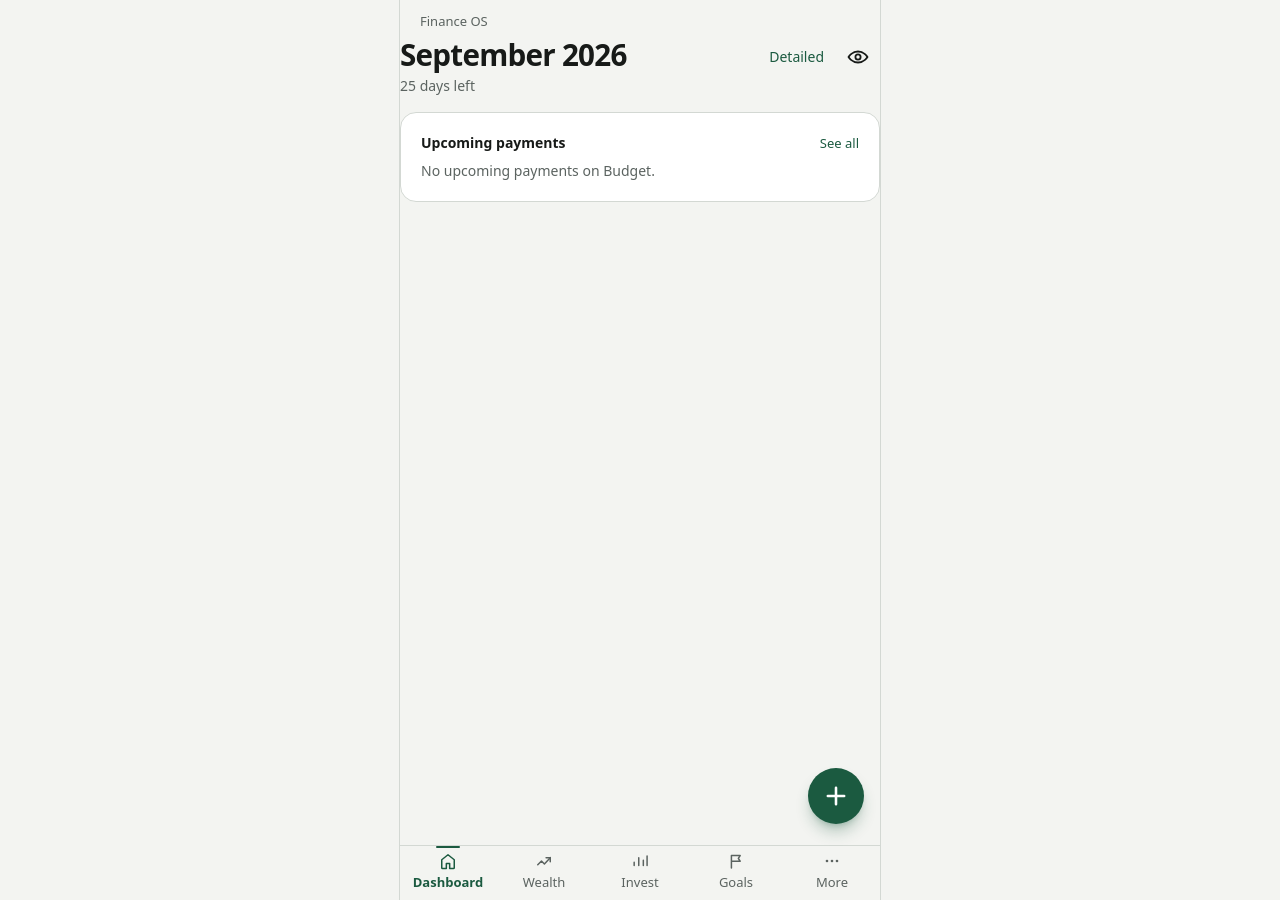
Scenario: app shell › searches All categories and can create a missing one
Click the button named "Quick Add".
click(836, 796)  # box x1=808 y1=768 x2=864 y2=824
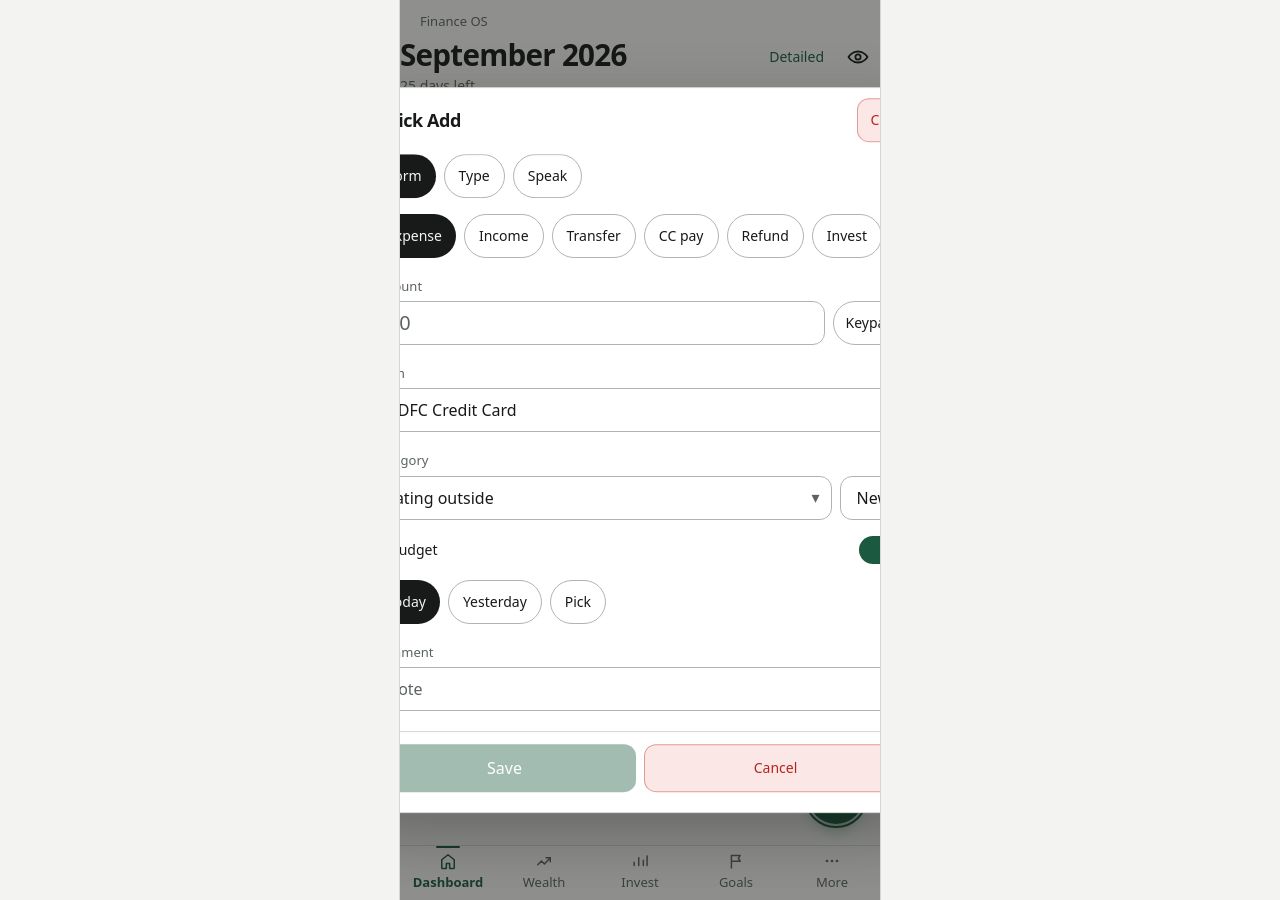
Click the button with aria-label "New category".
click(873, 498)  # box x1=840 y1=476 x2=907 y2=520
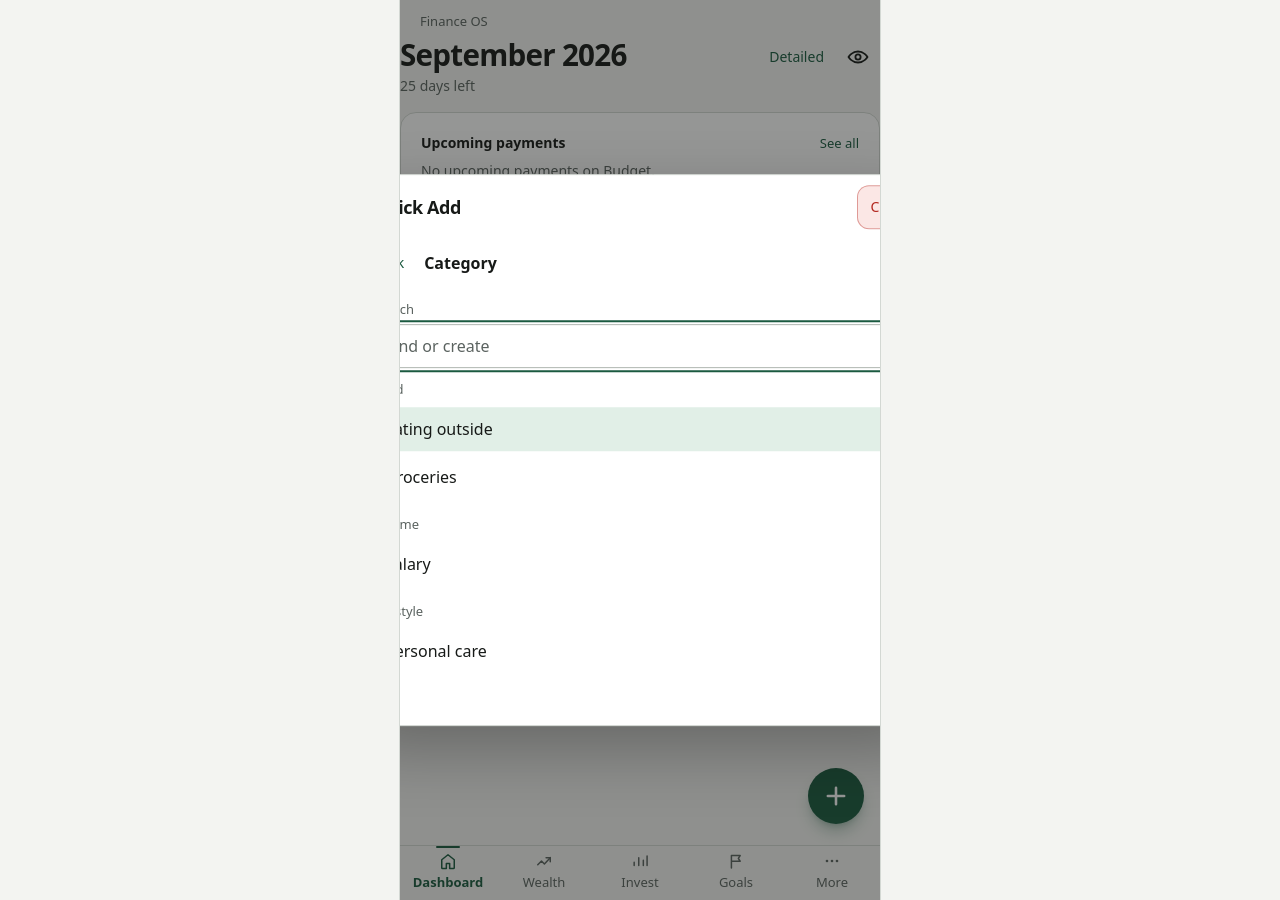
Type "Milk" into the search field with placeholder "Find or create".
click(640, 346); type("Milk")  # box x1=373 y1=324 x2=907 y2=368
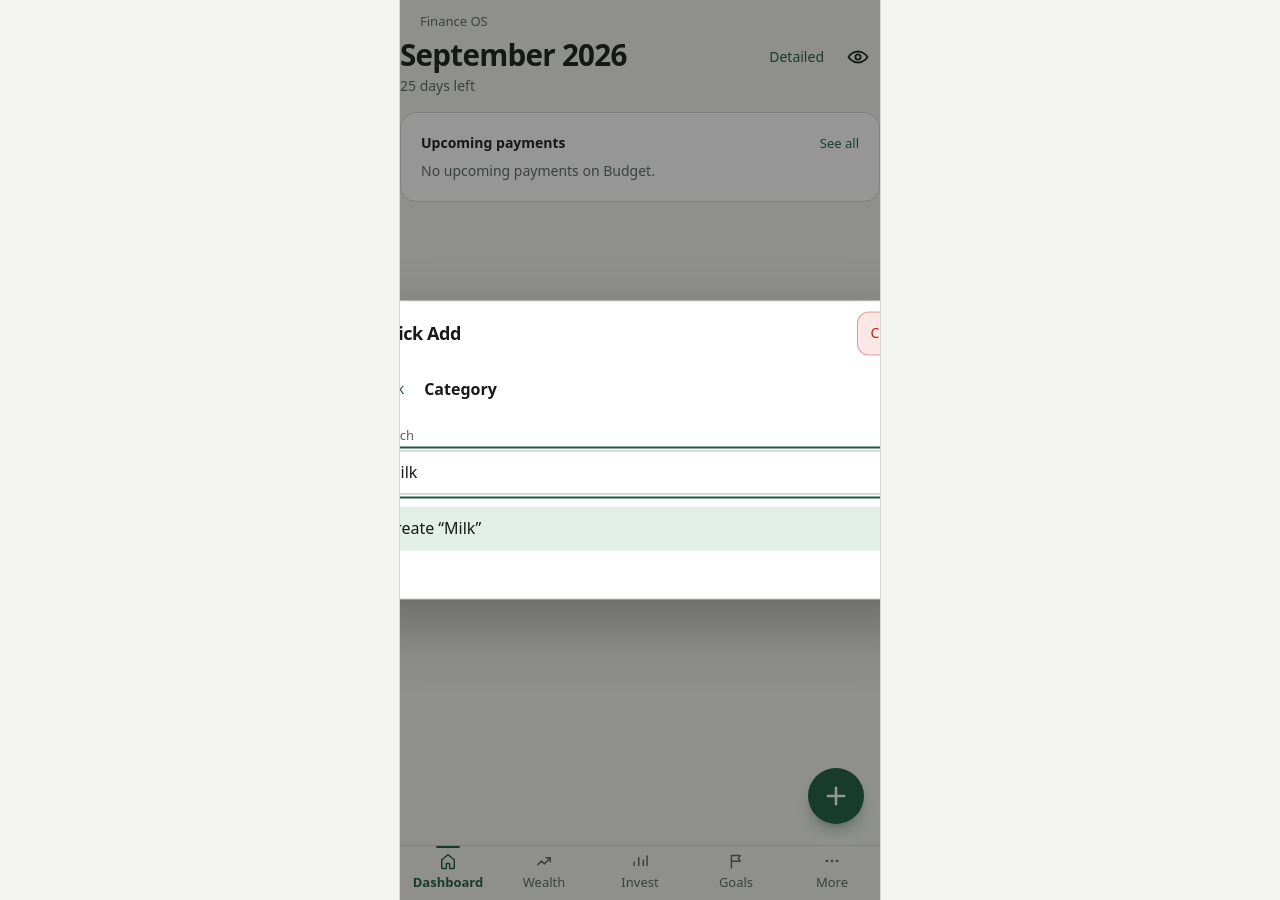
Click the button "Create “Milk”".
click(433, 529)  # box x1=373 y1=507 x2=907 y2=551
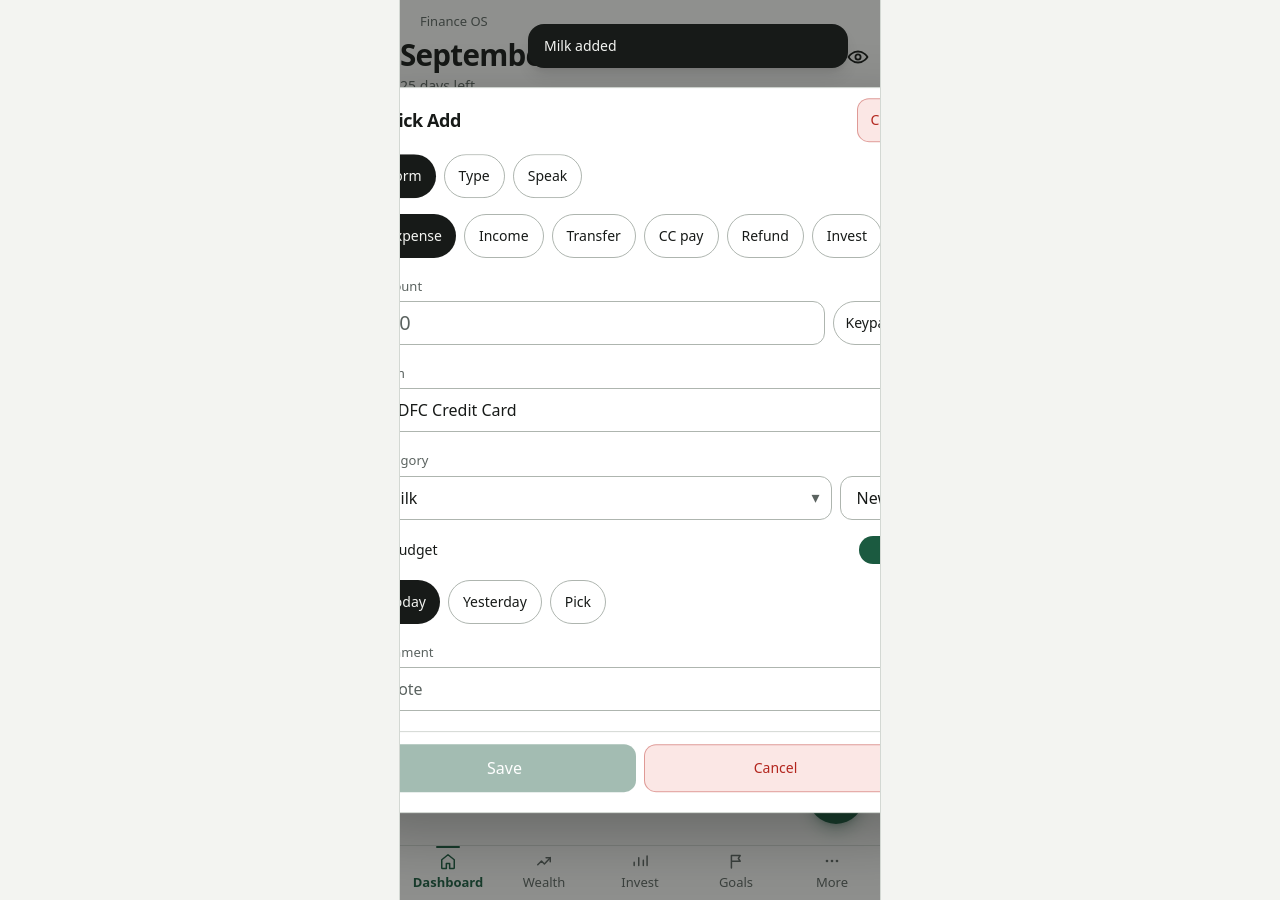
Now the dropdown labelled "Category" shows "Milk", box x1=400 y1=476 x2=832 y2=520
